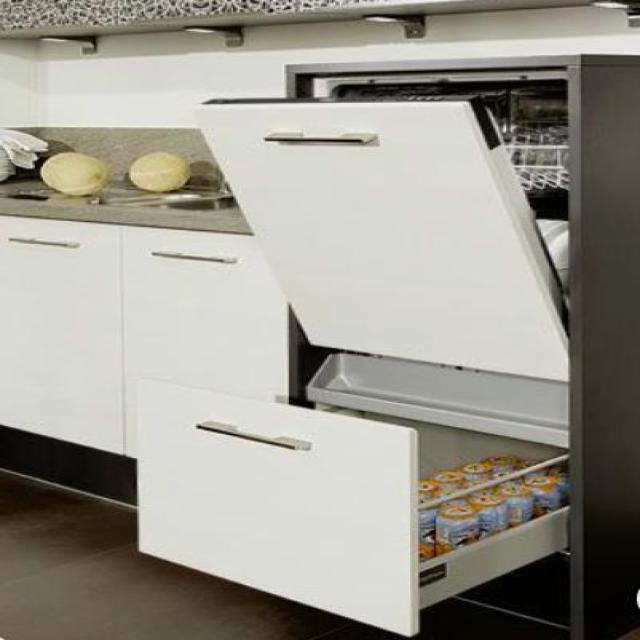dishwasher: (195, 51, 579, 384)
